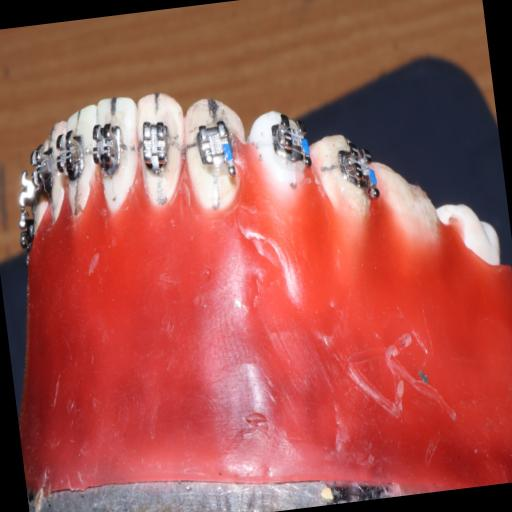correct_brace: (138, 116, 180, 178)
incorrect_brace: (132, 83, 196, 218), (194, 114, 240, 186)
